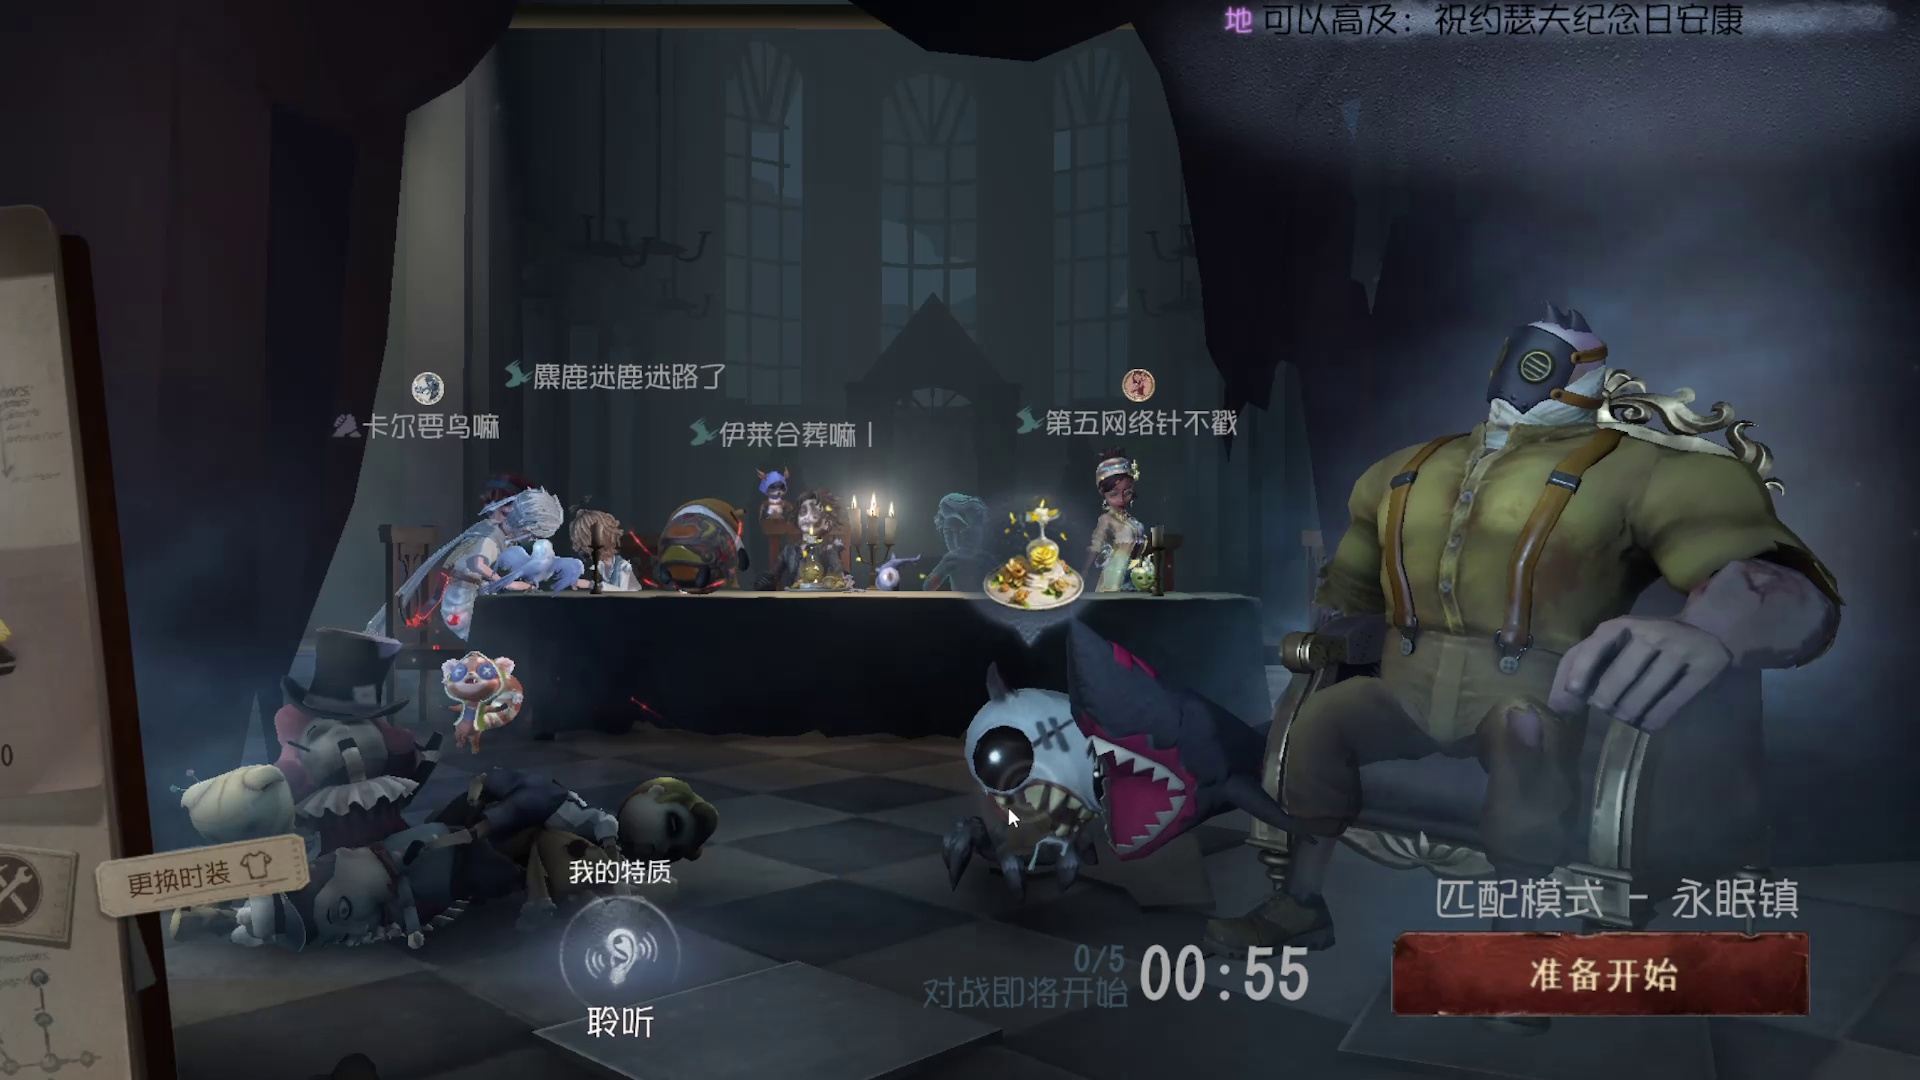准备开始: (1360, 903, 1826, 1036)
